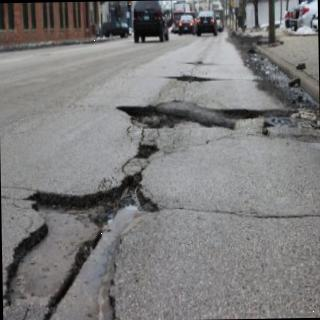pothole: (5, 172, 160, 320), (114, 100, 301, 130), (166, 73, 212, 83), (135, 144, 158, 159)
